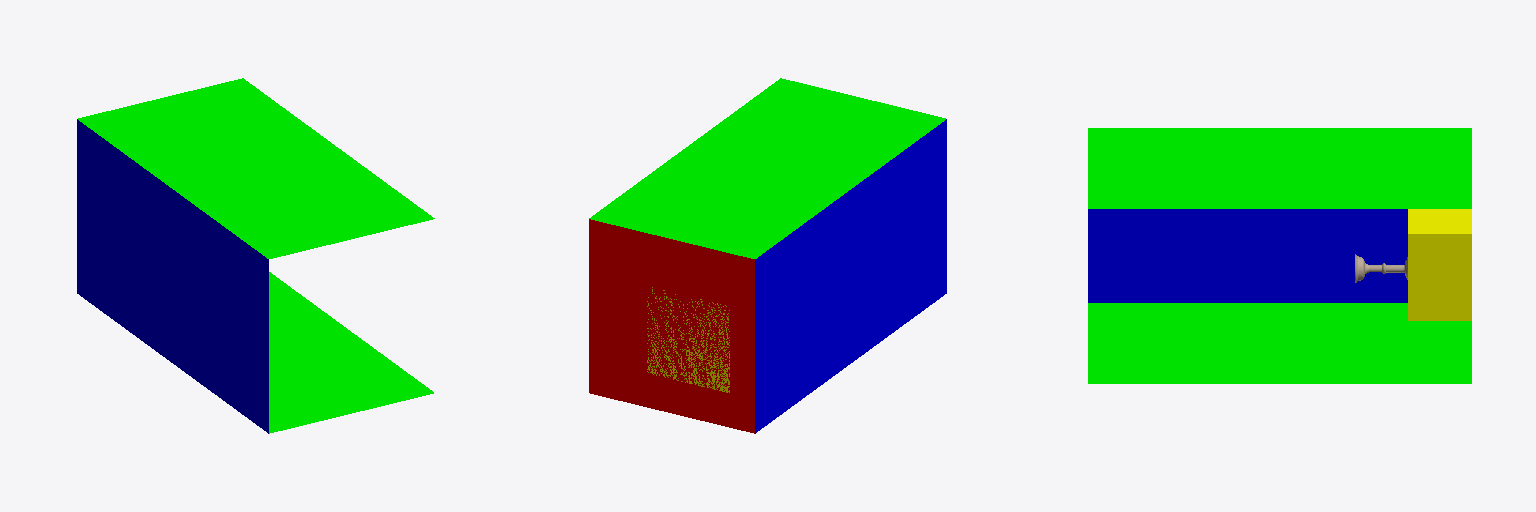
Rendered from porqueria.obj.
The picture shows the model from 3 angles: view 1: azimuth 30°, elevation 25°; view 2: azimuth 150°, elevation 25°; view 3: azimuth 270°, elevation 25°; orthographic projection.
Visible parts, largest first — view 1: Box01; view 2: Box01, Box02; view 3: Box01, Box02, Vase_tab.
Part boxes in pixels (left/top/right/bottom): Box01: left=77, top=78, right=434, bottom=433; Box01: left=589, top=78, right=946, bottom=433; Box02: left=647, top=287, right=729, bottom=392; Box01: left=1088, top=128, right=1471, bottom=383; Box02: left=1408, top=209, right=1471, bottom=320; Vase_tab: left=1355, top=254, right=1407, bottom=282.
Bounding box in the file's own units: 30 × 30 × 60.